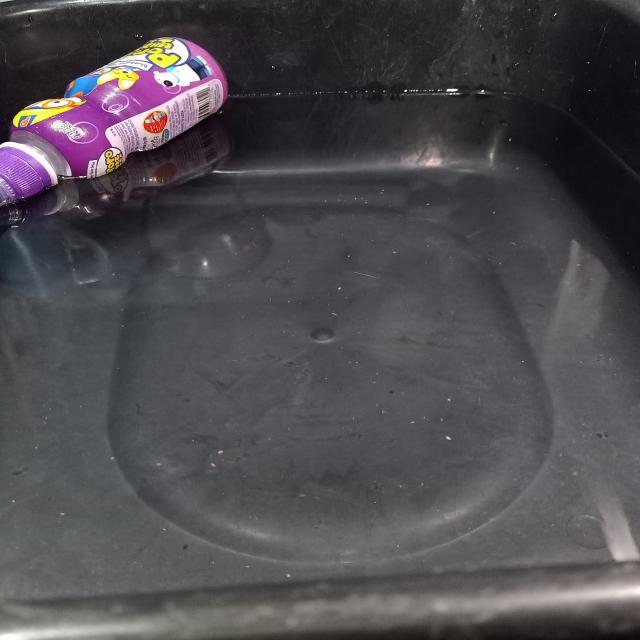Plastic Bottle: (0, 37, 227, 205)
